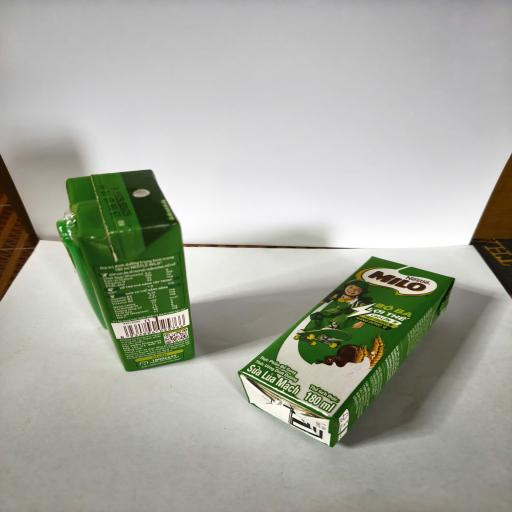milo: (238, 256, 456, 447), (56, 169, 195, 372)
